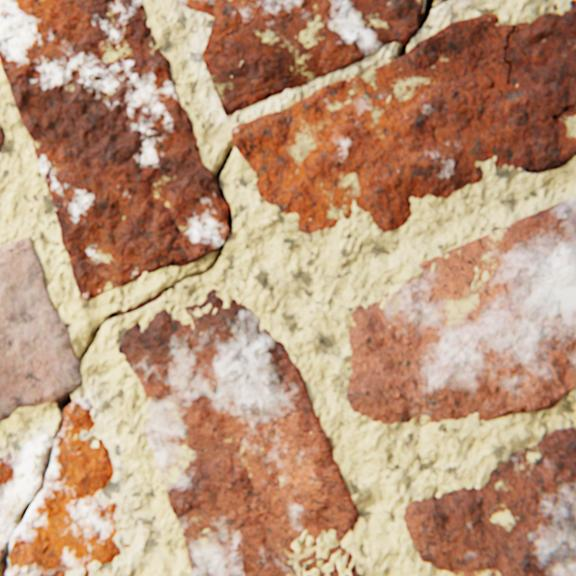brick: (231, 0, 575, 233), (0, 0, 232, 301), (119, 289, 358, 575), (346, 195, 575, 425), (403, 425, 575, 575), (0, 236, 83, 420), (0, 124, 6, 153), (329, 561, 339, 575), (144, 297, 159, 306), (350, 563, 361, 575), (121, 307, 138, 314), (552, 5, 556, 12), (384, 292, 388, 297)
broken_brick: (176, 0, 422, 116), (0, 397, 121, 575), (431, 0, 449, 8)
crack: (152, 243, 225, 297), (16, 444, 54, 527), (80, 310, 123, 360), (215, 142, 233, 200), (502, 25, 514, 85), (57, 393, 72, 433), (551, 101, 575, 120), (420, 0, 432, 28), (0, 542, 10, 575), (395, 45, 407, 59), (255, 0, 264, 14), (136, 300, 147, 308), (222, 32, 234, 39), (236, 24, 248, 31), (228, 209, 232, 229), (216, 45, 222, 55)
